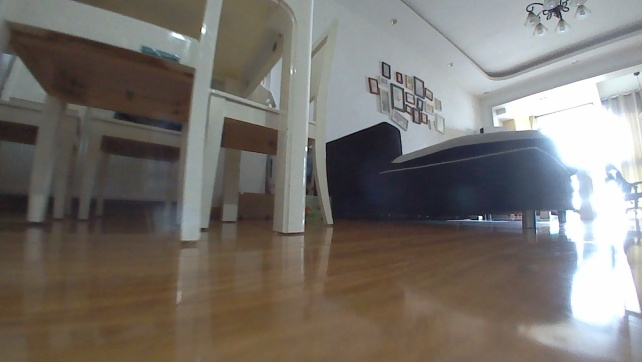dining_table1: (0, 0, 342, 246)
sofa1: (321, 118, 579, 230)
